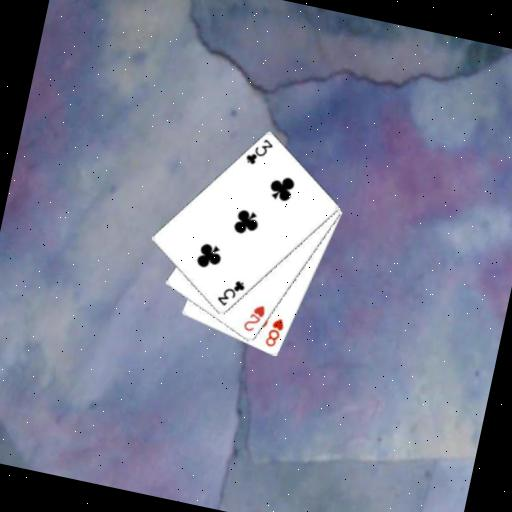2H: (239, 299, 268, 335)
3C: (213, 274, 248, 311), (241, 132, 276, 169)
8H: (261, 313, 287, 350)
